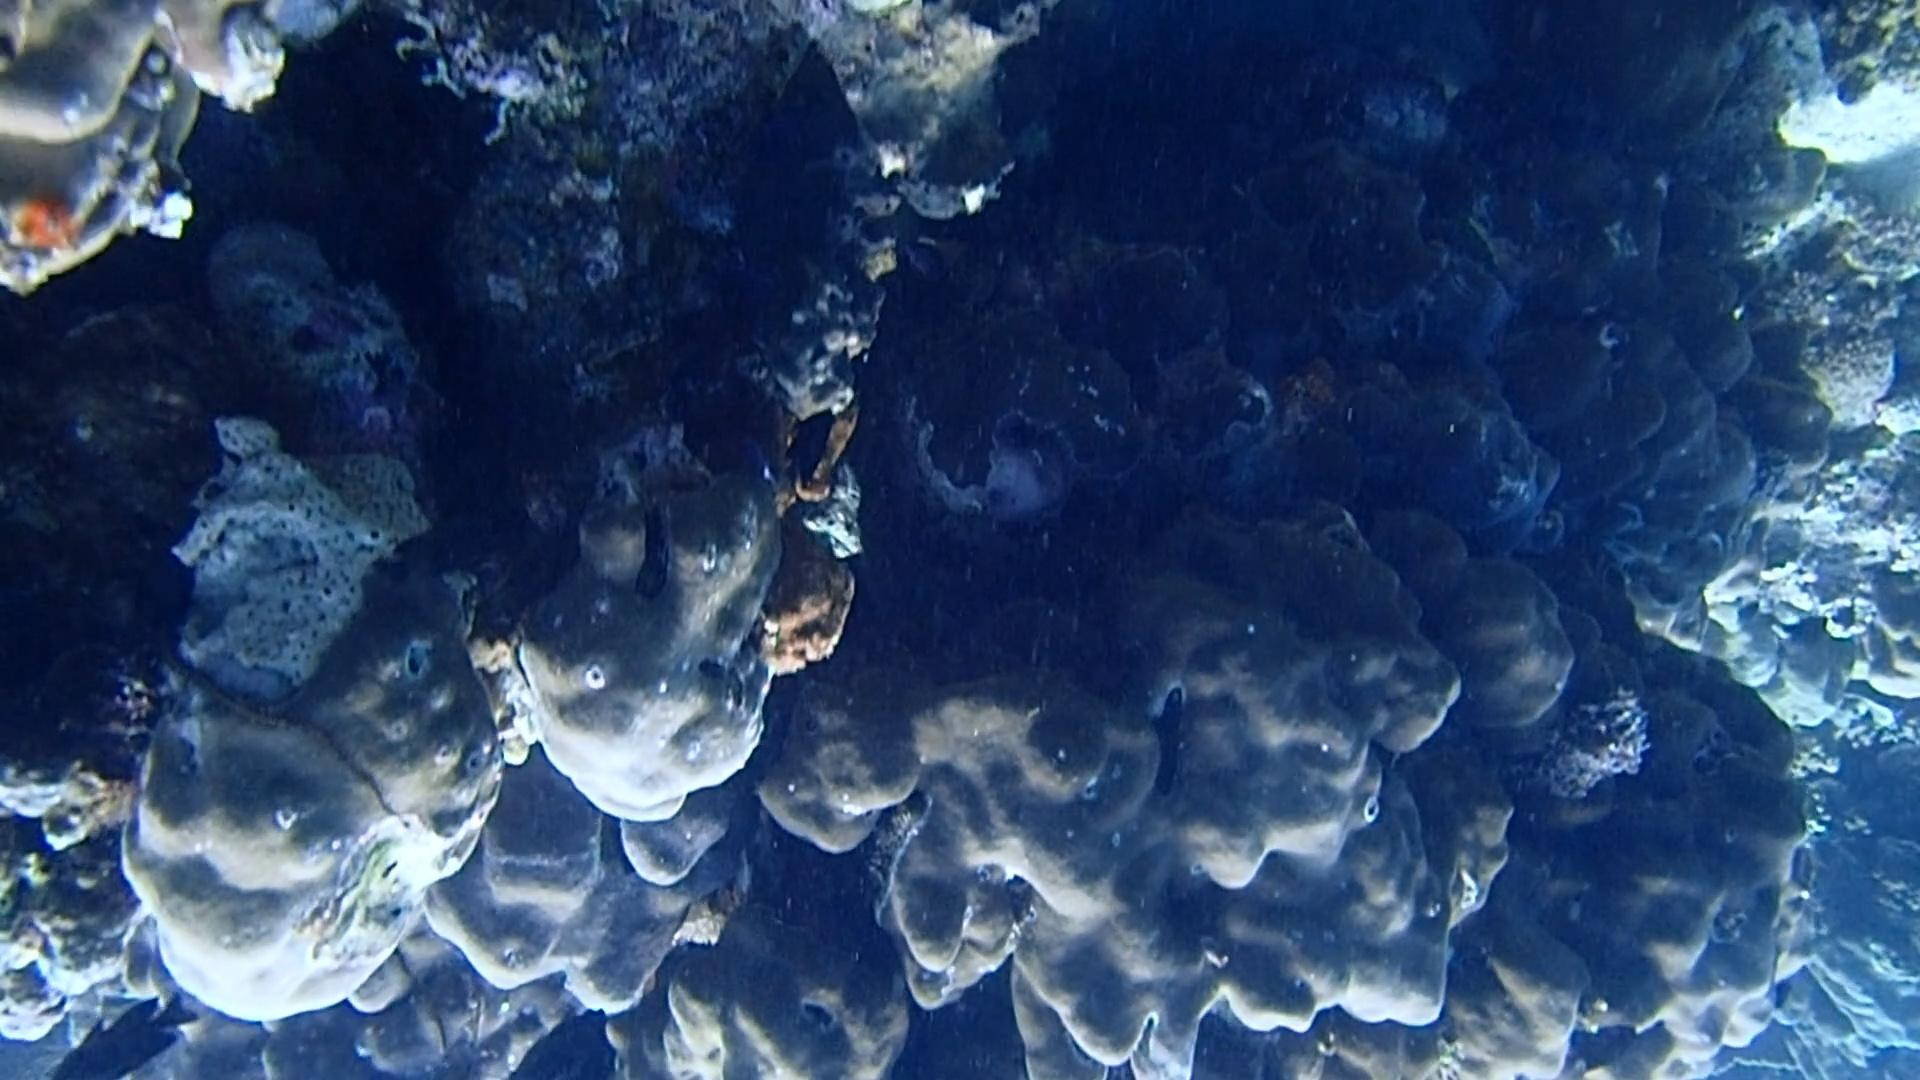Dark Fish: (37, 988, 212, 1080), (770, 398, 848, 505), (1563, 1017, 1639, 1080)
